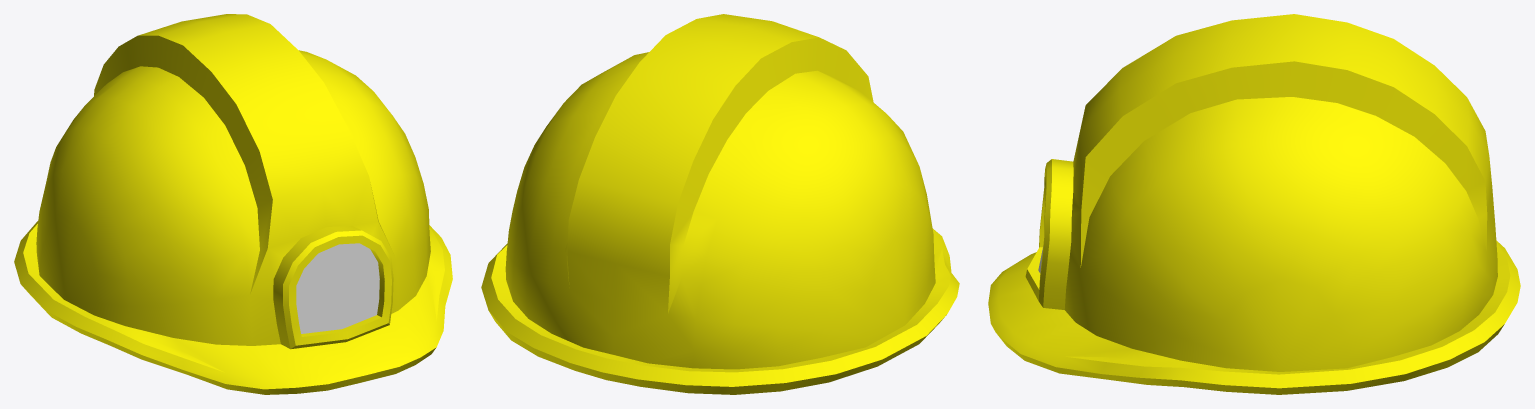
The model's file is Helmet_Standard_New.fbx.
3 views of the same model, side by side, from view 1: azimuth 30°, elevation 25°; view 2: azimuth 150°, elevation 25°; view 3: azimuth 270°, elevation 25° (orthographic). The views are drawn at different scales.
Parts seen in each view (by area): view 1: Helmet_Standard_New; view 2: Helmet_Standard_New; view 3: Helmet_Standard_New.
Boxes of the visible parts, x1,y1,x2,y2 form: Helmet_Standard_New: [14, 14, 452, 394]; Helmet_Standard_New: [481, 14, 959, 394]; Helmet_Standard_New: [988, 14, 1520, 394].
Size of the model in its own units: 438 by 282 by 483.
